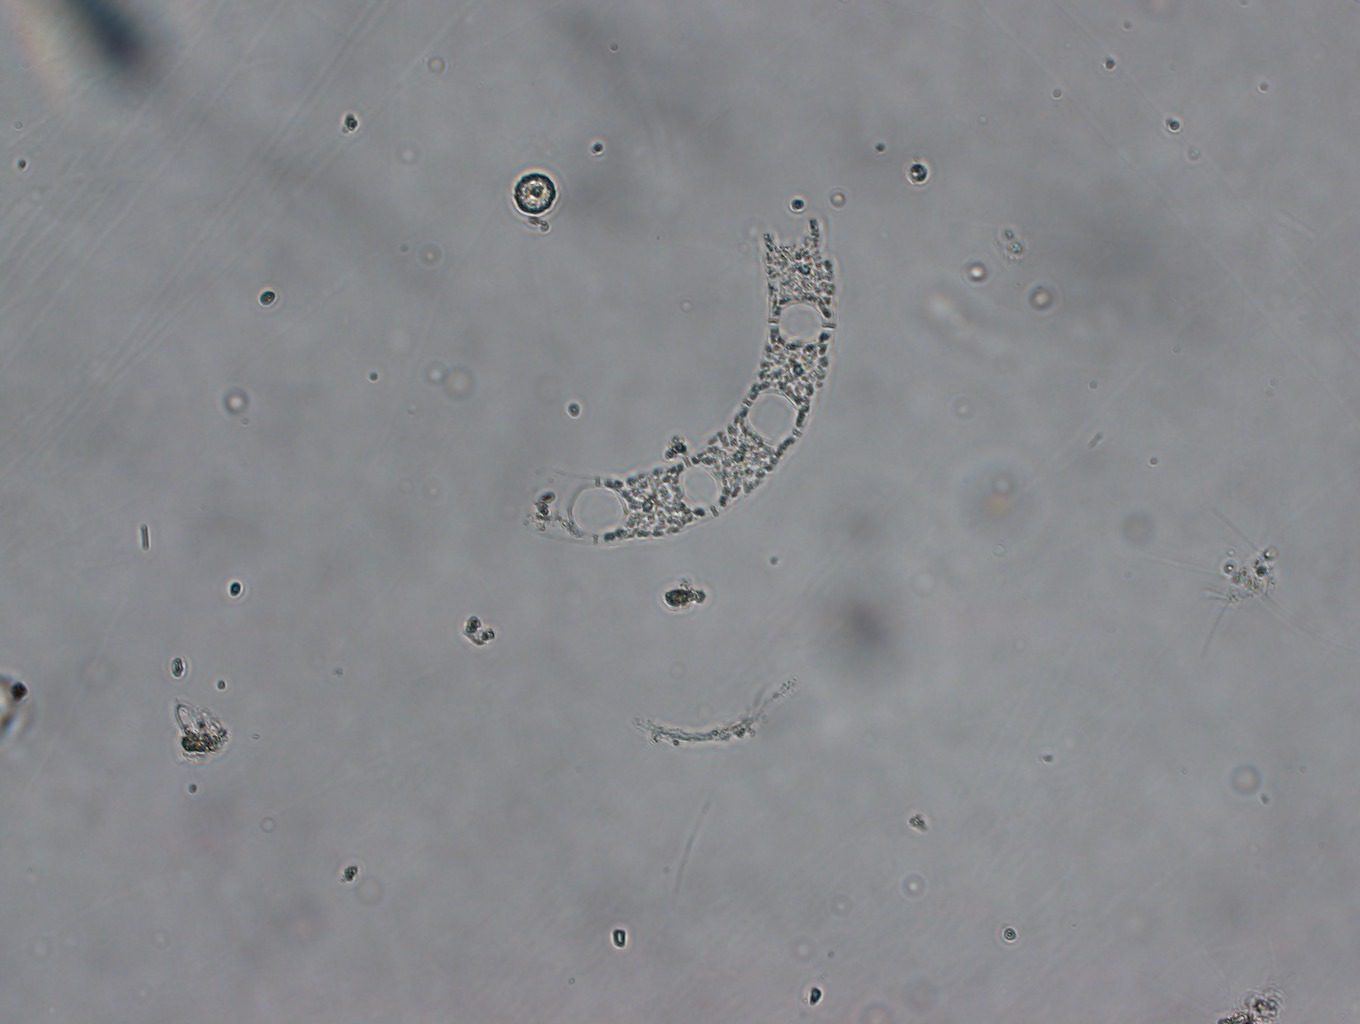eucampia: (522, 197, 845, 557)
